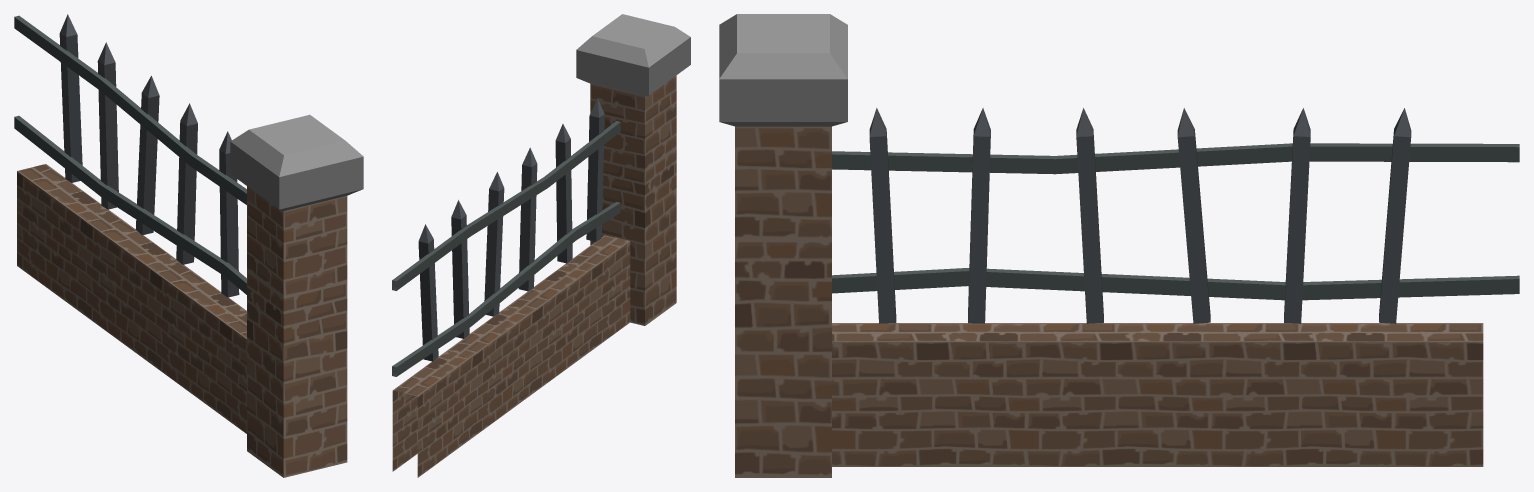
File: Wall_01.fbx
3 views of the same model, side by side, from view 1: azimuth 30°, elevation 25°; view 2: azimuth 150°, elevation 25°; view 3: azimuth 270°, elevation 25° (orthographic). The views are drawn at different scales.
Parts seen in each view (by area): view 1: Wall_01; view 2: Wall_01; view 3: Wall_01.
Part boxes in pixels (x1,y1,x2,y2): Wall_01: [14, 14, 363, 477]; Wall_01: [392, 14, 690, 477]; Wall_01: [719, 14, 1519, 477].
Size of the model in its own units: 69 by 251 by 429.
Materials: 1 (1 with a texture image).
